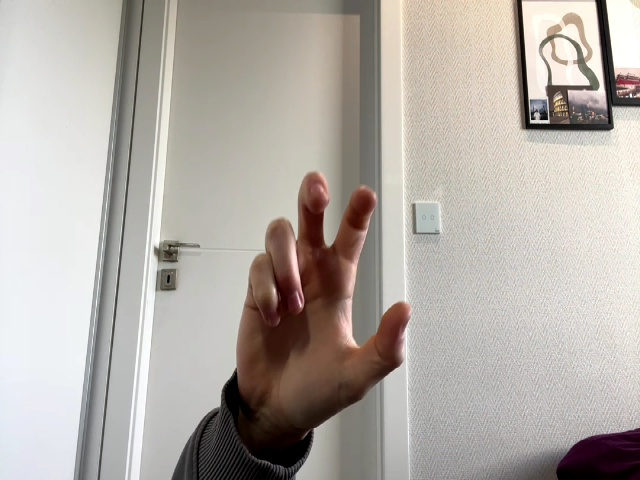CH: (238, 173, 412, 422)
